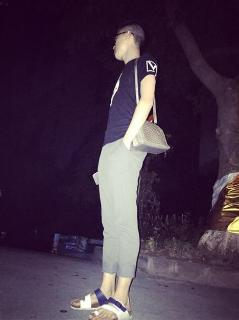short sleeve top: (103, 54, 158, 146)
trousers: (98, 128, 147, 278)
